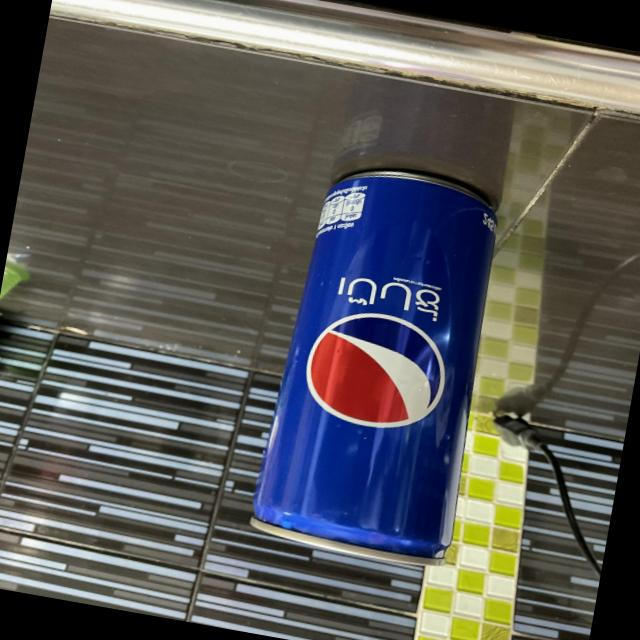can: (248, 150, 518, 575)
